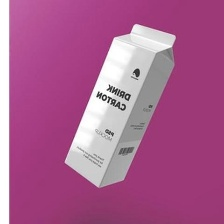carton: (59, 20, 179, 189)
